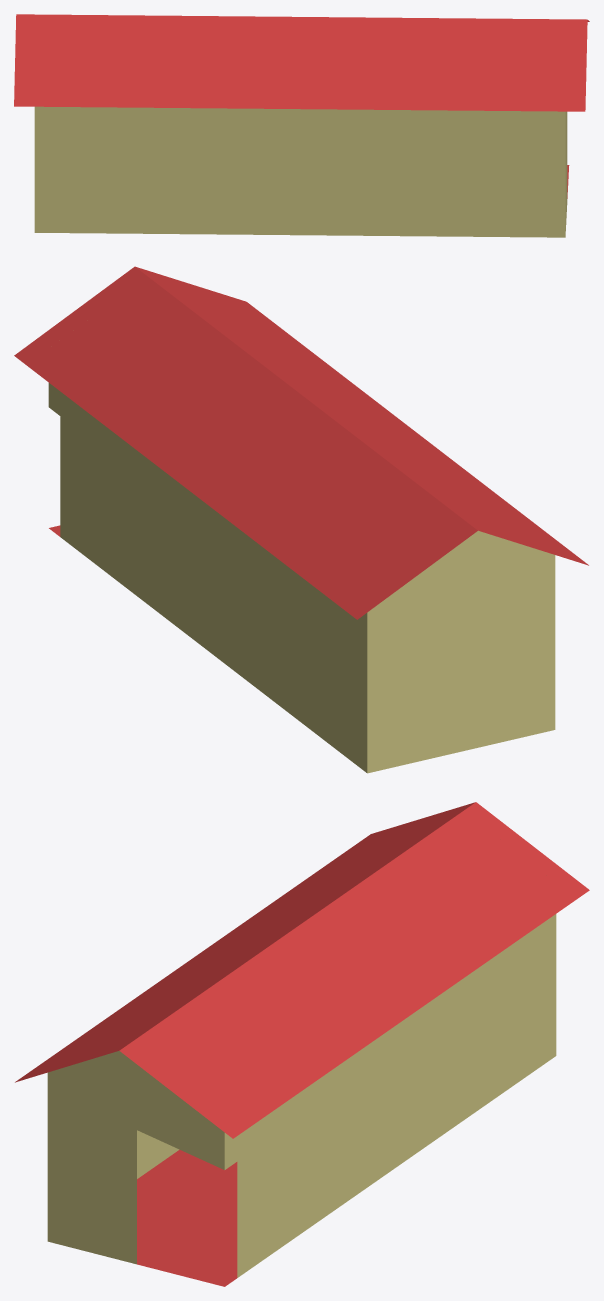
3 renders of one model, top to bottom at view 1: azimuth 30°, elevation 25°; view 2: azimuth 150°, elevation 25°; view 3: azimuth 270°, elevation 25°, orthographic. The views are drawn at different scales.
Size of the model in its own units: 29.39 by 23.47 by 9.95.
